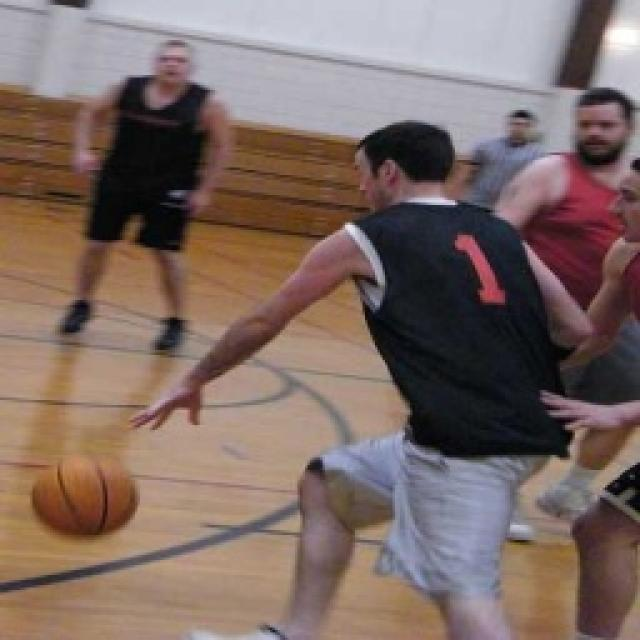rim: (24, 445, 151, 546)
